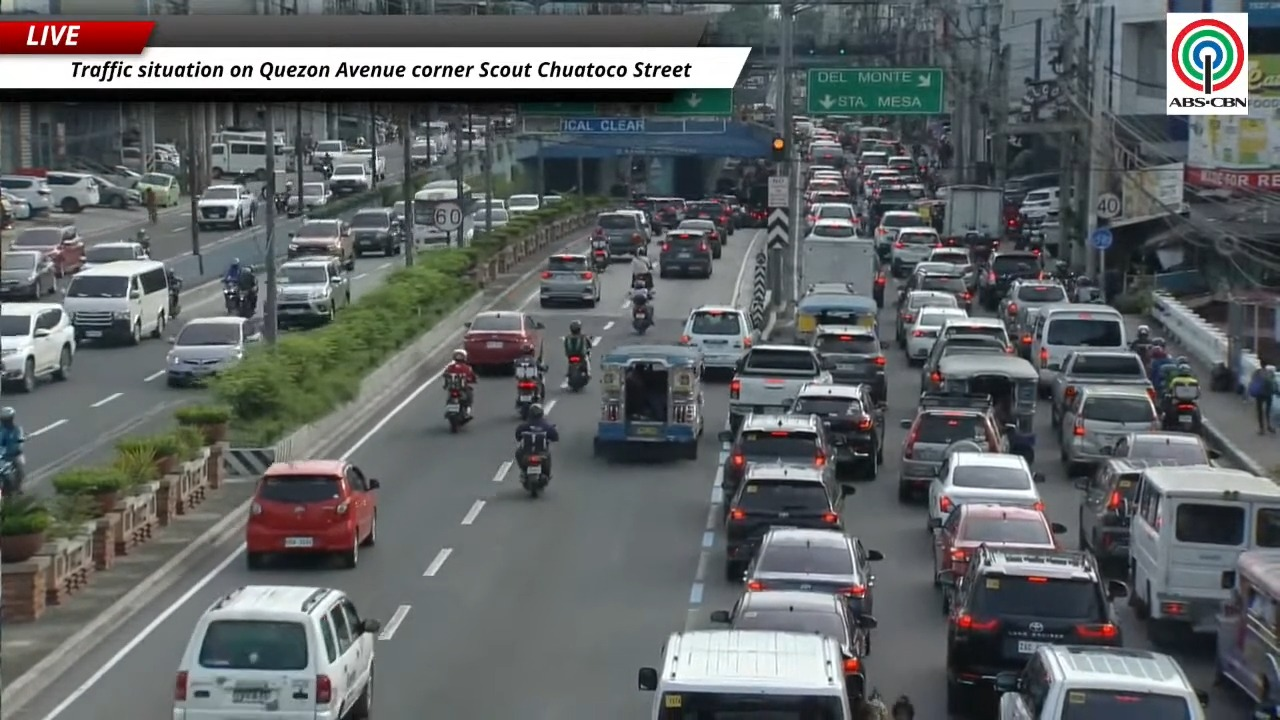bus: (412, 180, 473, 245), (209, 140, 267, 180), (274, 131, 288, 145)
car: (940, 548, 1127, 713), (173, 585, 380, 719), (711, 591, 874, 699), (995, 645, 1207, 719), (724, 462, 855, 581), (245, 459, 378, 569), (743, 527, 883, 616), (899, 394, 1007, 500), (721, 413, 834, 511), (934, 503, 1065, 581), (926, 451, 1044, 528), (790, 383, 884, 479), (1059, 385, 1159, 475), (1073, 459, 1155, 564), (0, 302, 76, 392), (165, 316, 260, 386), (811, 324, 887, 402), (276, 257, 351, 328), (680, 305, 757, 372), (921, 335, 1006, 391), (463, 311, 544, 367), (7, 225, 84, 276), (1110, 430, 1220, 465), (979, 250, 1042, 309), (895, 290, 958, 349), (905, 307, 967, 364), (997, 279, 1068, 328), (286, 219, 354, 270), (539, 253, 600, 307), (0, 250, 56, 301), (938, 315, 1012, 353), (349, 207, 405, 257), (657, 230, 712, 278), (890, 225, 940, 277), (913, 266, 972, 309), (591, 211, 647, 256), (45, 171, 100, 213), (1009, 305, 1051, 360), (898, 261, 953, 303), (927, 246, 976, 290), (0, 175, 52, 216), (671, 218, 723, 258), (83, 241, 149, 268), (684, 200, 732, 237), (90, 175, 140, 208), (286, 182, 332, 216), (134, 173, 180, 207), (328, 163, 374, 195), (617, 207, 653, 245), (808, 203, 857, 226), (0, 191, 32, 223), (805, 219, 856, 239), (472, 207, 509, 229), (507, 194, 541, 215)
motorcycle: (518, 433, 549, 496), (1161, 385, 1201, 433), (444, 373, 471, 432), (516, 364, 541, 419), (1161, 401, 1200, 433), (521, 453, 548, 497), (223, 283, 255, 318), (0, 455, 22, 496), (566, 355, 589, 391), (632, 303, 652, 335), (222, 283, 241, 314), (169, 276, 182, 318), (592, 244, 609, 271), (274, 193, 288, 214), (322, 162, 333, 180)
truck: (729, 345, 831, 435), (1049, 349, 1155, 426), (799, 236, 882, 305), (941, 184, 1003, 254)
